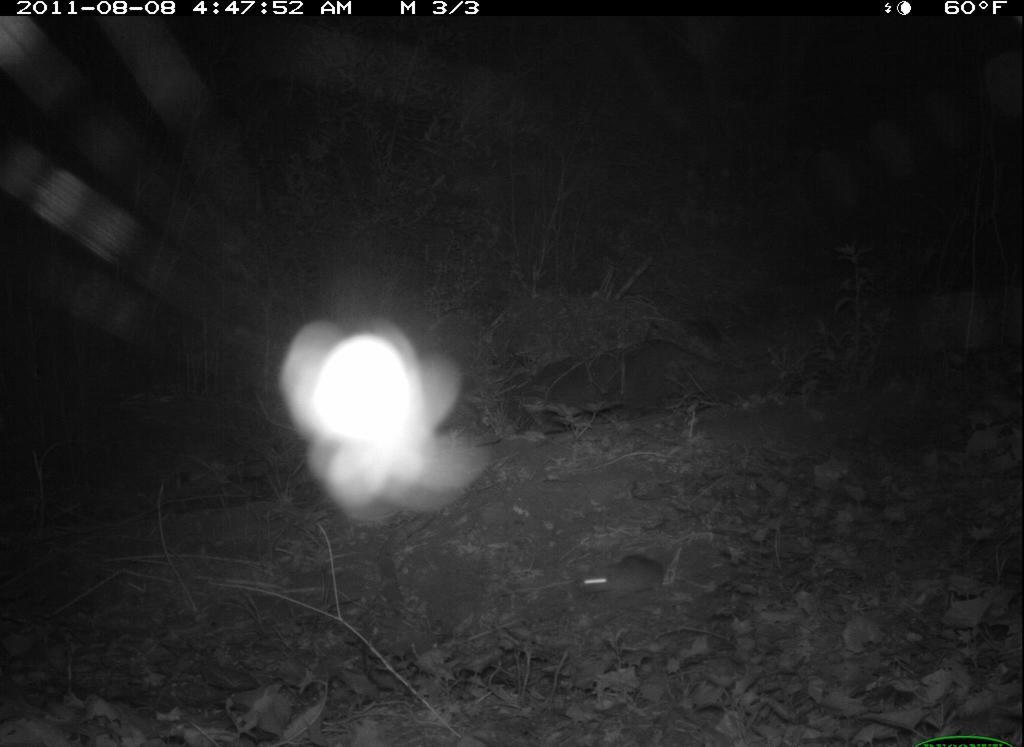rodent: (573, 545, 689, 617)
